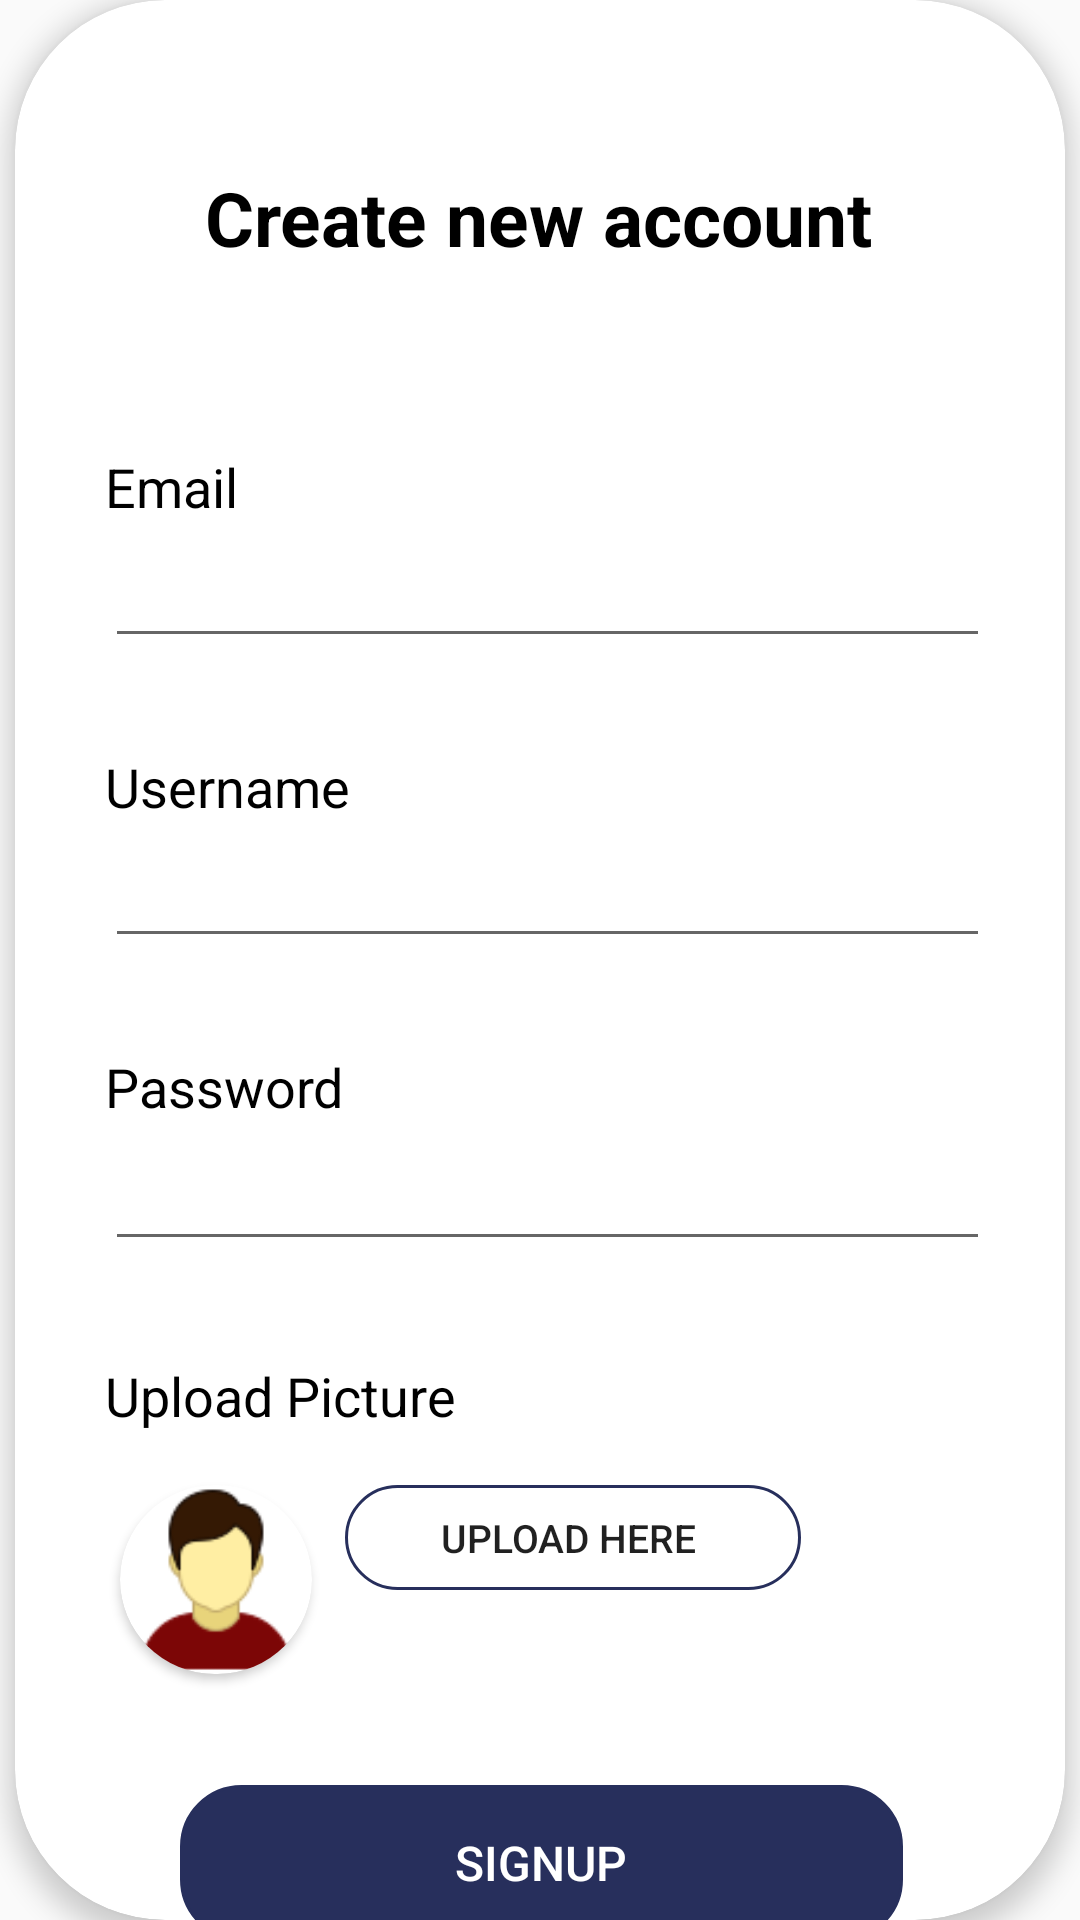

Where icons sit on this 1080px×1920px app screen, as [x1, y1, x2, y2]:
user pic: [120, 1489, 299, 1674]
